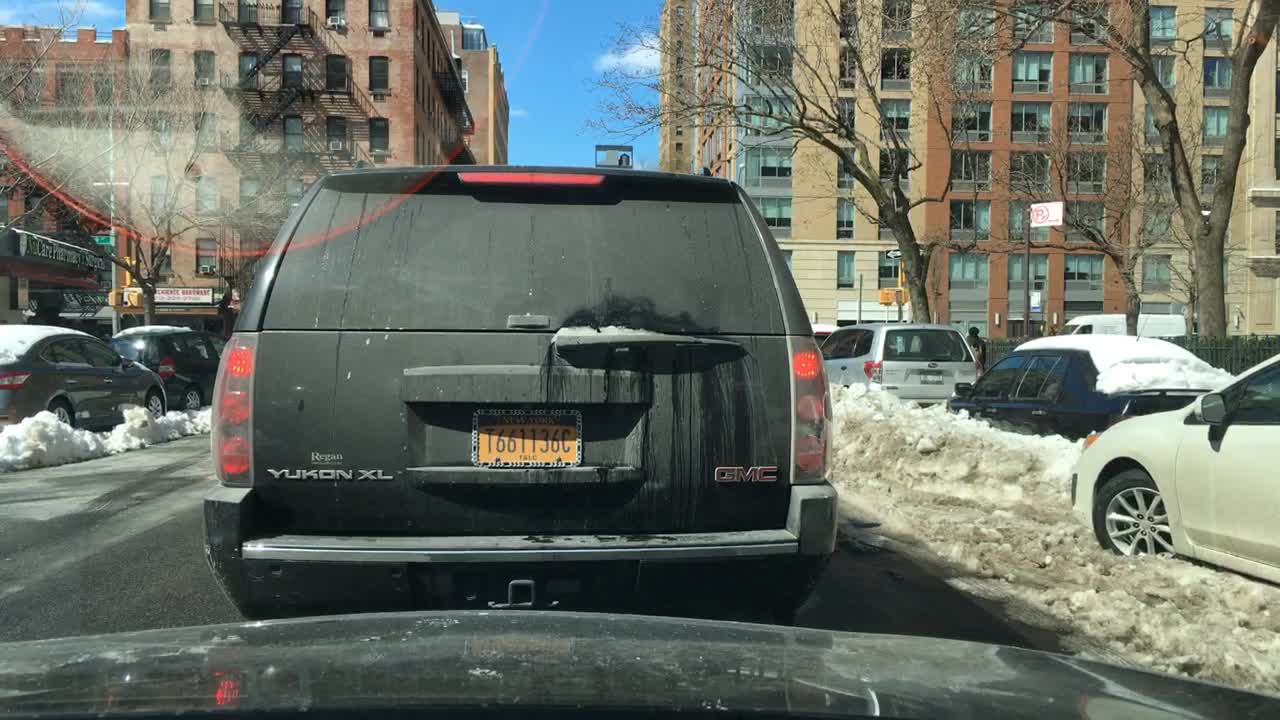car: (203, 143, 838, 627), (1070, 350, 1278, 587), (946, 332, 1232, 441), (0, 322, 168, 436), (818, 321, 978, 406), (113, 325, 229, 413), (811, 322, 838, 350)
person: (965, 325, 985, 379)
traffic light: (126, 287, 144, 309), (877, 287, 895, 305), (107, 291, 125, 306), (893, 287, 908, 305)
traffic sign: (1030, 202, 1063, 226), (87, 233, 112, 245)
truck: (1059, 314, 1186, 334)
